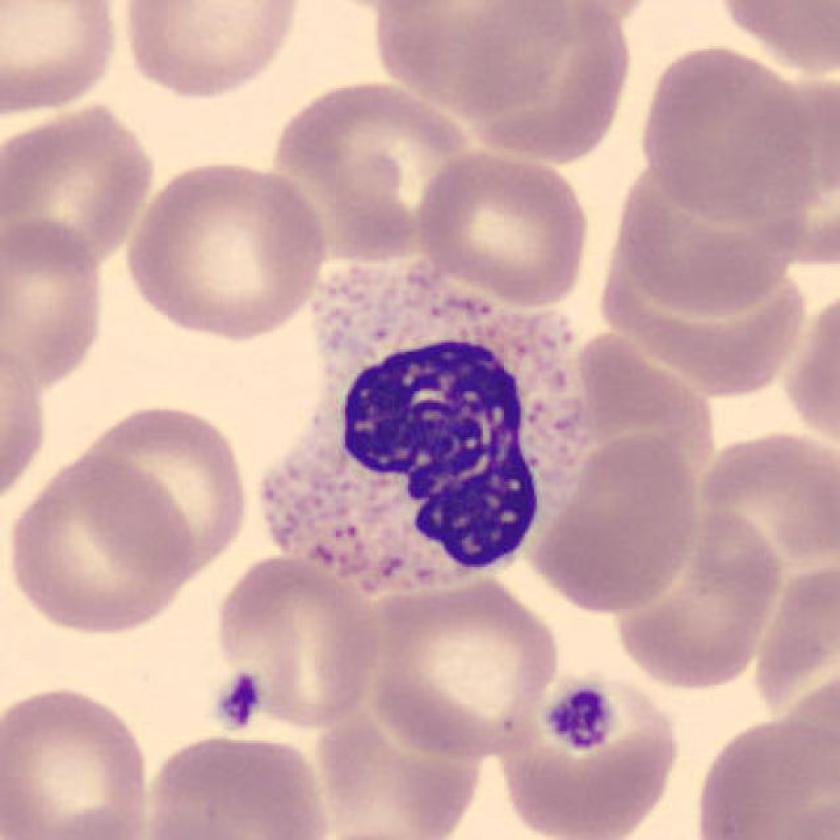neutrophil: (260, 262, 587, 597)
